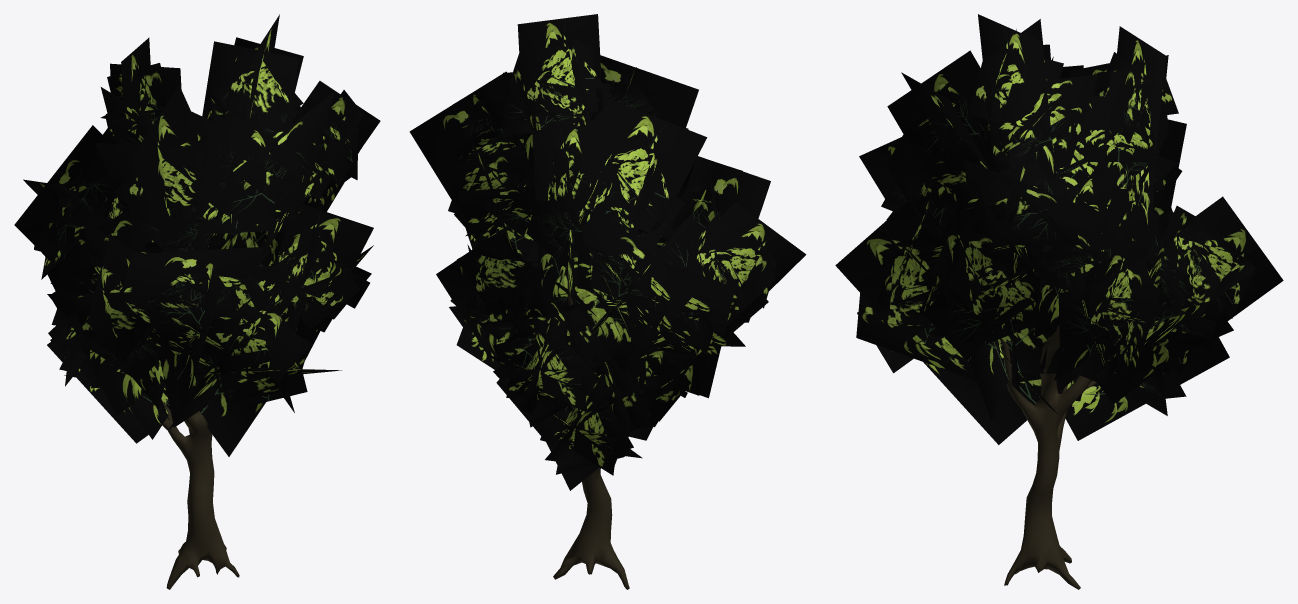
File: BigTree.fbx
3 renders of one model, left to right at view 1: azimuth 30°, elevation 25°; view 2: azimuth 150°, elevation 25°; view 3: azimuth 270°, elevation 25°, orthographic. The views are drawn at different scales.
Parts seen in each view (by area): view 1: LeavesBigTree, Trunk; view 2: LeavesBigTree, Trunk; view 3: LeavesBigTree, Trunk.
Part boxes in pixels (x1,y1,x2,y2): LeavesBigTree: [14, 14, 380, 456]; Trunk: [161, 385, 239, 589]; LeavesBigTree: [409, 14, 806, 490]; Trunk: [553, 273, 629, 589]; LeavesBigTree: [835, 14, 1283, 444]; Trunk: [1000, 326, 1096, 589].
Size of the model in its own units: 12.11 by 18.97 by 13.11.
Materials: 2 (1 with a texture image).
